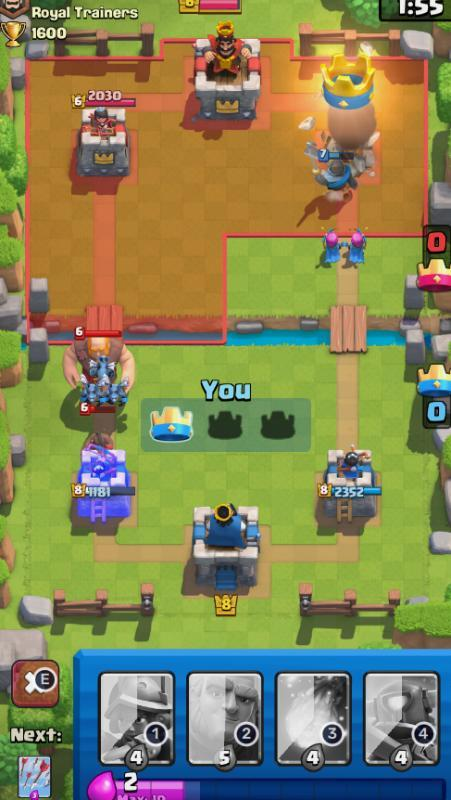enemy_giant: (57, 324, 138, 400)
enemy_hog_rider: (80, 427, 119, 449)
player_archers: (314, 224, 348, 271), (344, 222, 377, 268)
player_knight: (308, 146, 359, 200)
player_minions: (102, 379, 130, 406), (89, 353, 114, 383), (81, 379, 103, 406)
